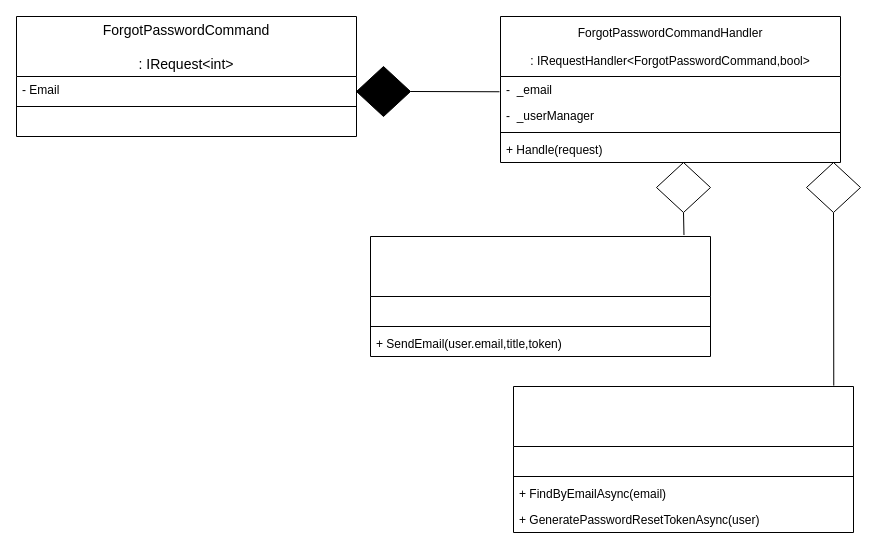
The diagram is 877 pixels wide and 549 high, and some of its shapes have lost their labels. The box of each missing label's shape, as (x1, y1, x2, y2) in pixels:
«interface» IEmail: (370, 236, 710, 356)
«interface» IIdentityService: (512, 386, 854, 532)
